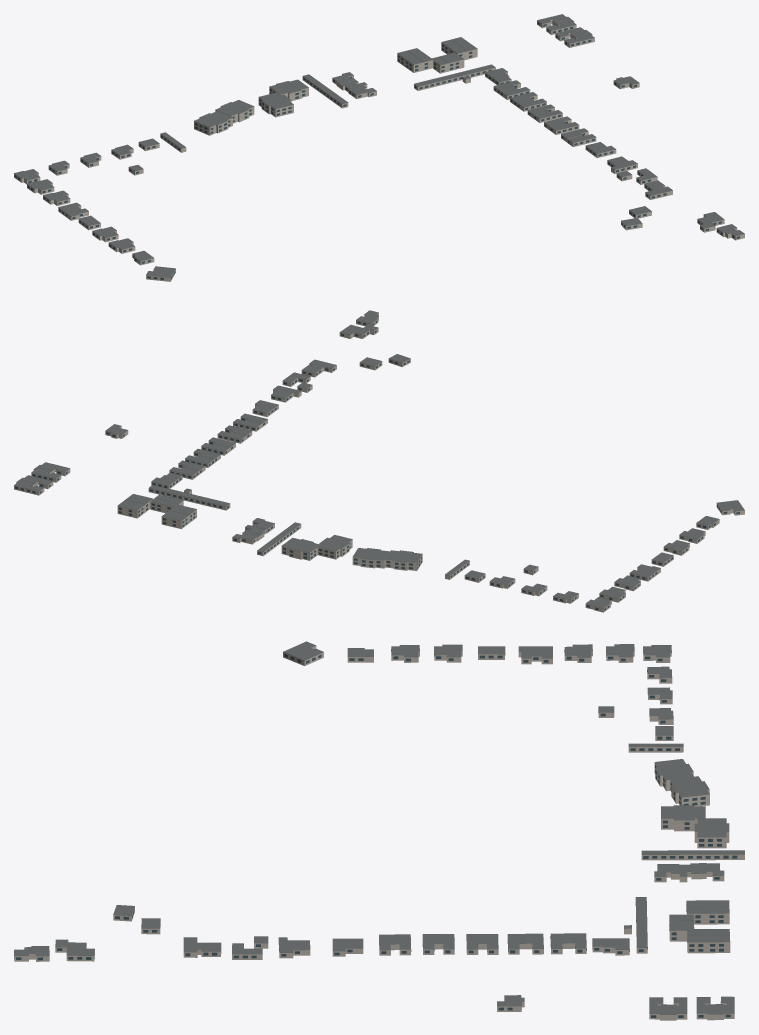
3 renders of one model, top to bottom at view 1: azimuth 30°, elevation 25°; view 2: azimuth 150°, elevation 25°; view 3: azimuth 270°, elevation 25°, orthographic. The views are drawn at different scales.
Visible parts, largest first — view 1: Buildings (1, -10) Roof membrane, Buildings (1, -10) Masonry brick, Buildings (1, -10) Architectural tinted glass, Buildings (1, -10) Metal coping; view 2: Buildings (1, -10) Roof membrane, Buildings (1, -10) Masonry brick, Buildings (1, -10) Architectural tinted glass, Buildings (1, -10) Metal coping; view 3: Buildings (1, -10) Roof membrane, Buildings (1, -10) Masonry brick, Buildings (1, -10) Architectural tinted glass, Buildings (1, -10) Metal coping.
Part boxes in pixels (bbox=[...]): Buildings (1, -10) Roof membrane: bbox=[14, 14, 744, 277]; Buildings (1, -10) Masonry brick: bbox=[14, 19, 744, 281]; Buildings (1, -10) Architectural tinted glass: bbox=[14, 22, 739, 279]; Buildings (1, -10) Metal coping: bbox=[14, 14, 744, 277]; Buildings (1, -10) Roof membrane: bbox=[14, 310, 744, 608]; Buildings (1, -10) Masonry brick: bbox=[14, 313, 744, 612]; Buildings (1, -10) Architectural tinted glass: bbox=[15, 314, 739, 610]; Buildings (1, -10) Metal coping: bbox=[14, 310, 744, 608]; Buildings (1, -10) Roof membrane: bbox=[14, 641, 744, 1014]; Buildings (1, -10) Masonry brick: bbox=[14, 645, 744, 1020]; Buildings (1, -10) Architectural tinted glass: bbox=[16, 649, 737, 1017]; Buildings (1, -10) Metal coping: bbox=[14, 641, 744, 1014].
Bounding box in the file's own units: 501 × 9.18 × 412.
